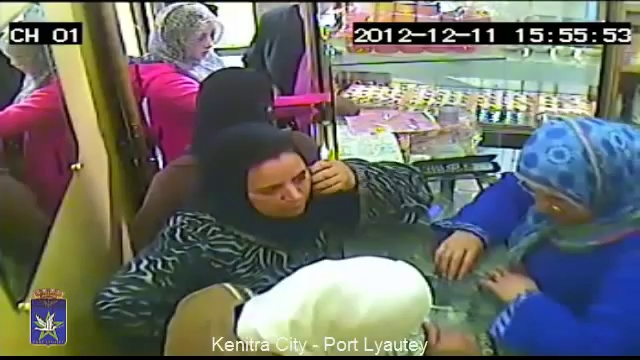face: (251, 159, 313, 219), (527, 179, 587, 223), (185, 26, 218, 57)
